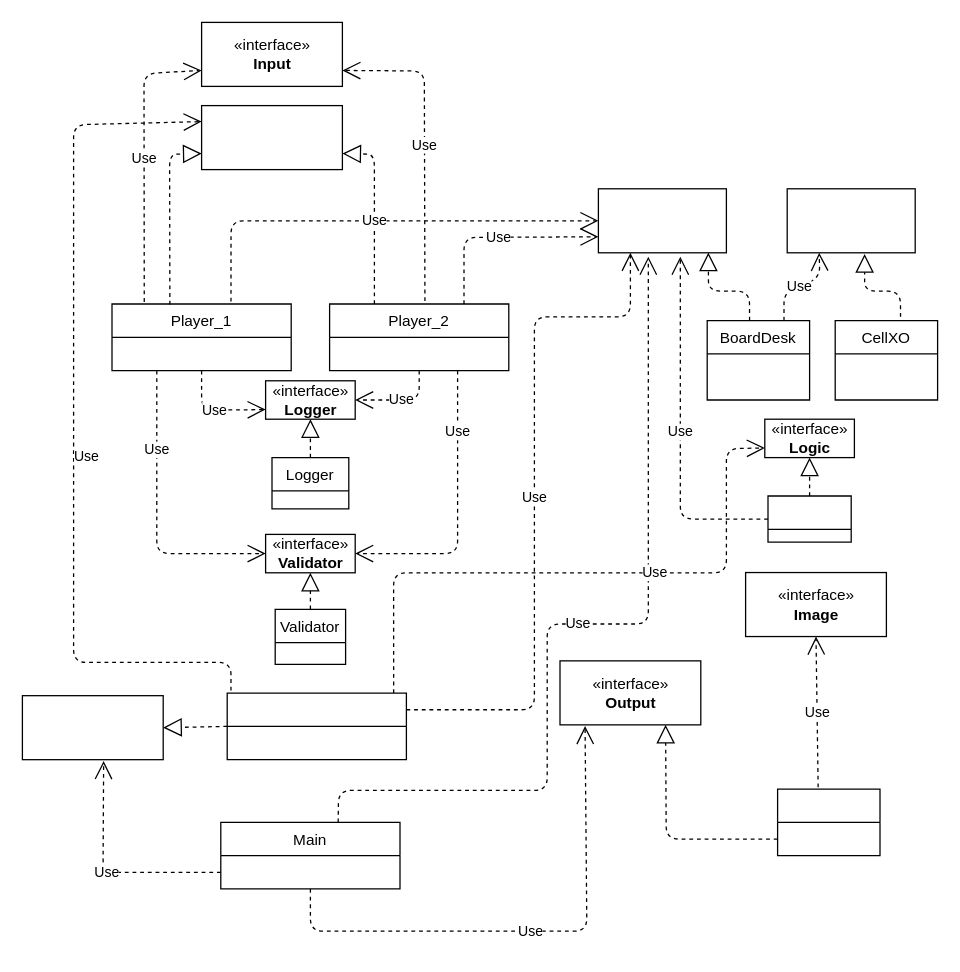
The diagram is 960 pixels wide and 972 high, and some of its shapes have lost their labels. The centre of each missing label's shape, as x and y in pixels:
"Controller" belongs at [316,726].
"Logic" belongs at [809,518].
"Output" belongs at [828,822].
"«Enum» Cell" belongs at [850,220].
"«interface» Board" belongs at [661,220].
"«interface» Controller" belongs at [92,727].
"«interface» Player" belongs at [271,137].
